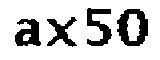0: (117, 3, 151, 49)
5: (85, 2, 115, 52)
a: (9, 17, 43, 50)
x: (46, 15, 79, 50)
